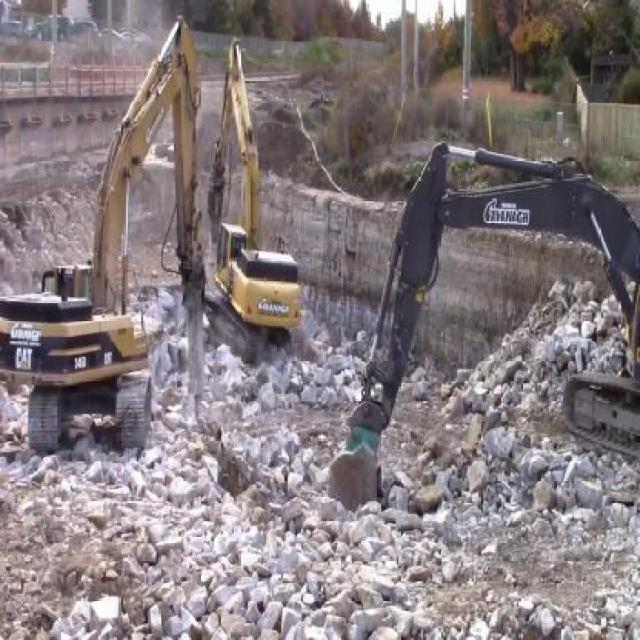Excavator: (328, 129, 635, 508), (0, 19, 209, 463), (197, 34, 298, 372)
